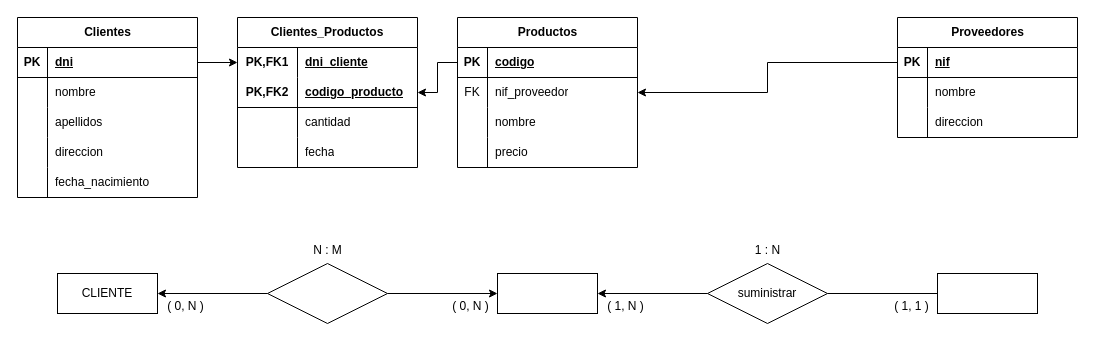
The diagram is 1095 pixels wide and 341 high, and some of its shapes have lost their labels. The shapes that lost their labels are listed below. From the top down, each one's centre as x and y in pixels, then its label:
At point 327,293: "comprar".
At point 547,293: "PRODUCTO".
At point 987,293: "PROVEEDOR".
